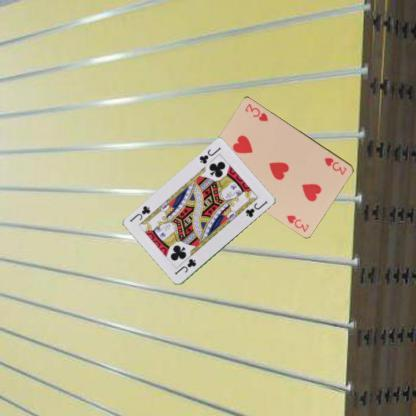3h: (322, 154, 348, 176)
Jc: (196, 144, 222, 166), (172, 256, 198, 276)
